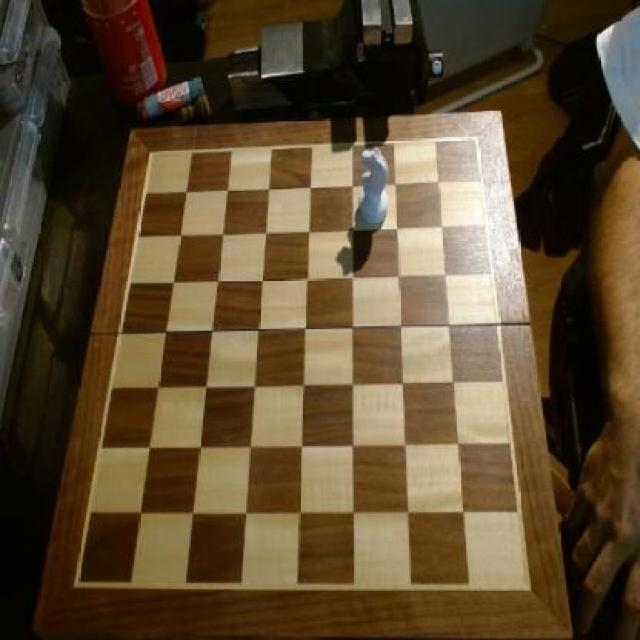white-king: (356, 146, 392, 229)
